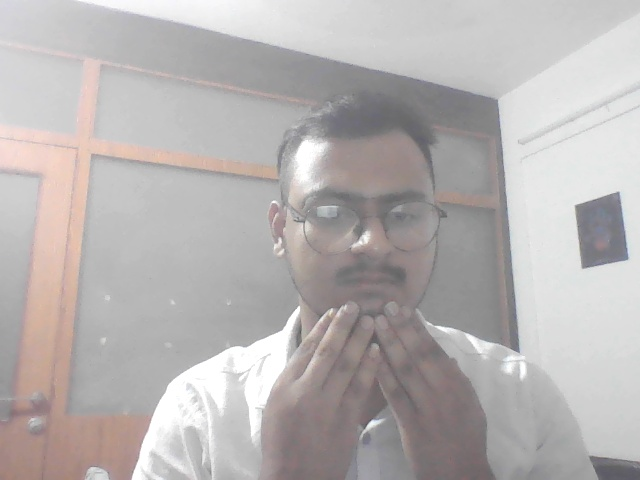ThankYou: (257, 300, 495, 480)
